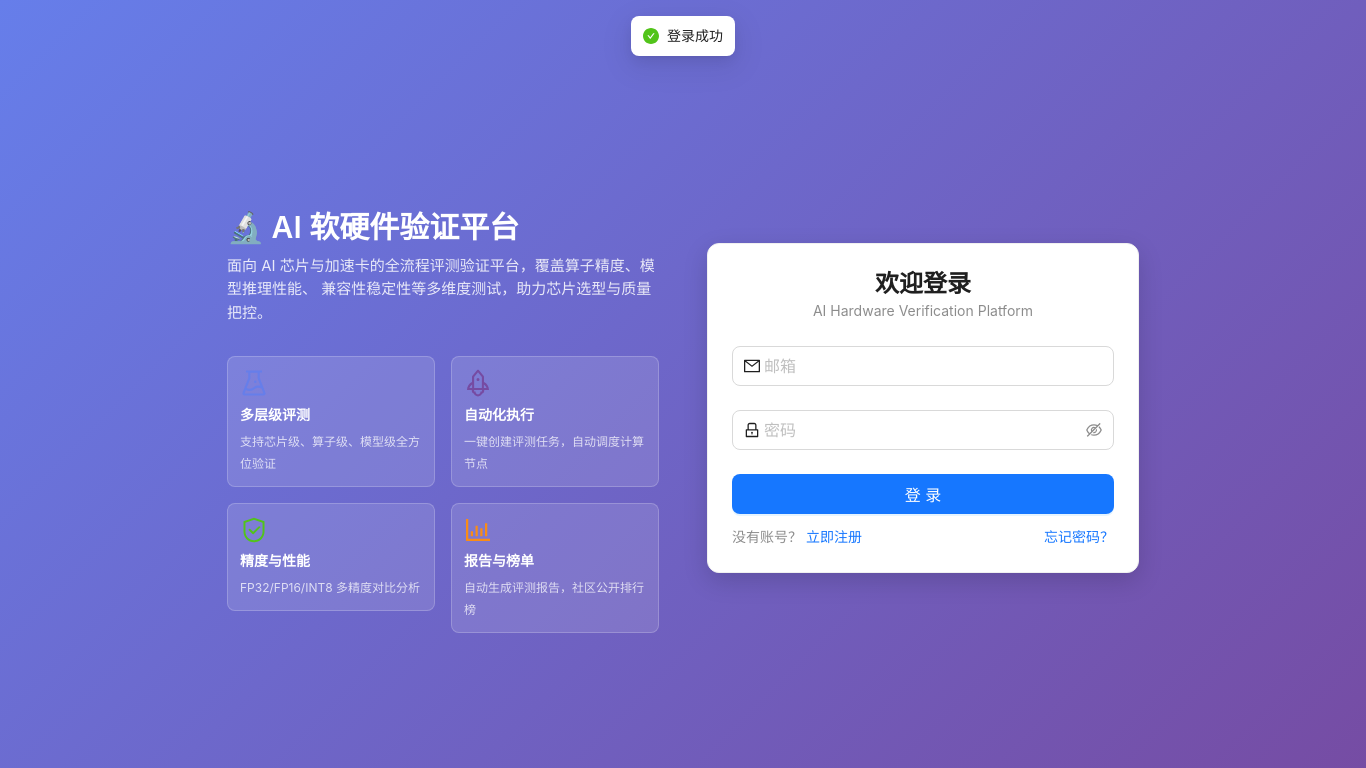
Login Page › displays lock info when account is locked
The image size is (1366, 768).
Type "test@example.com" into the field with placeholder "邮箱".
click(933, 366); type("test@example.com")  # box [764,354,1102,378]
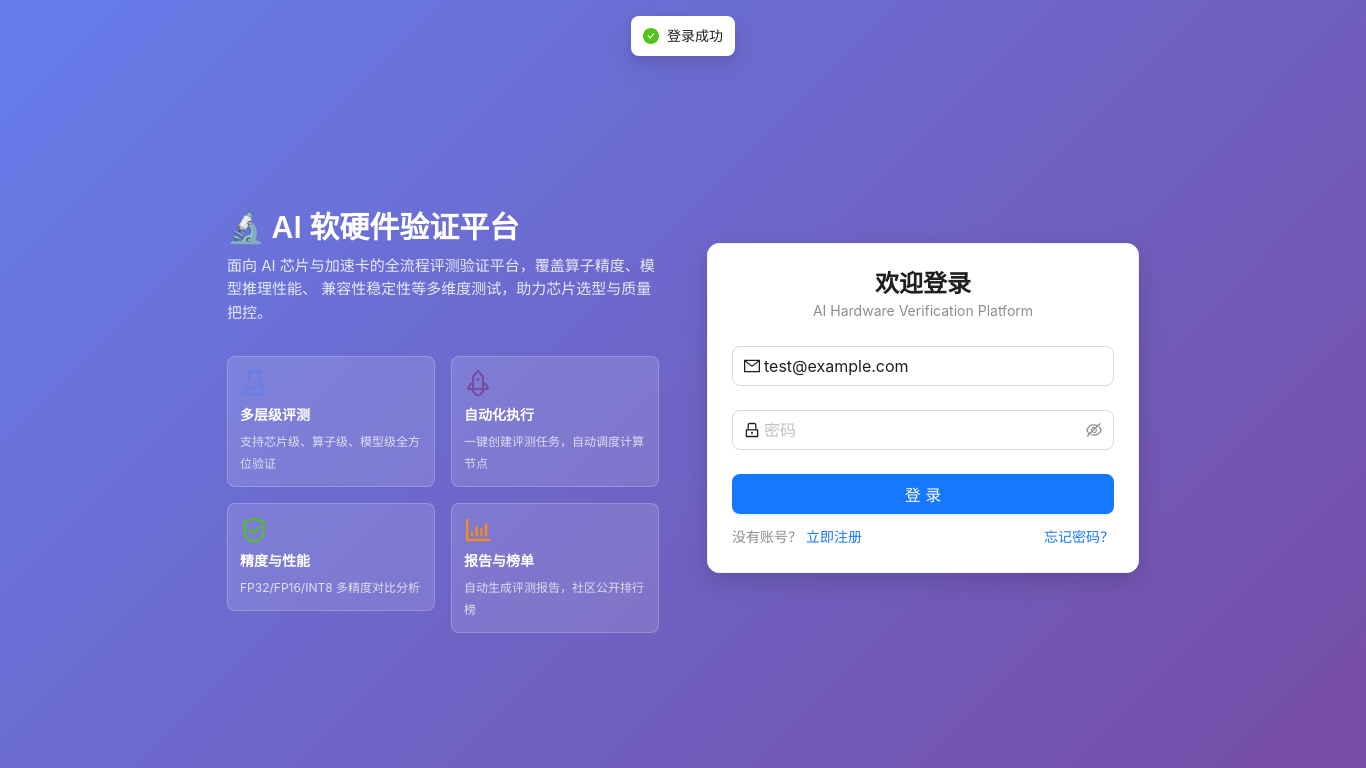
Type "wrong" into the password field with placeholder "密码".
click(923, 430); type("wrong")  # box [764,418,1082,442]
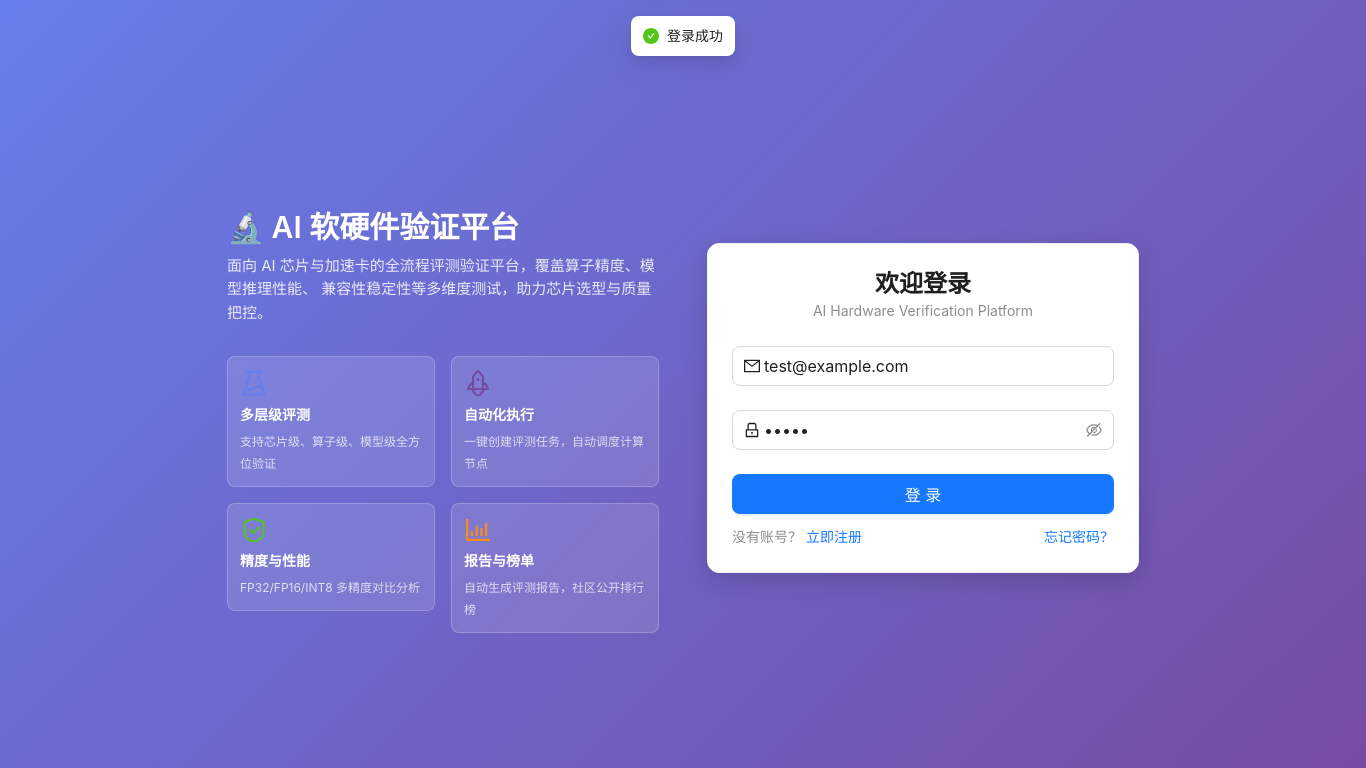
Click the button "登 录".
click(923, 494)  # box [732,474,1114,514]
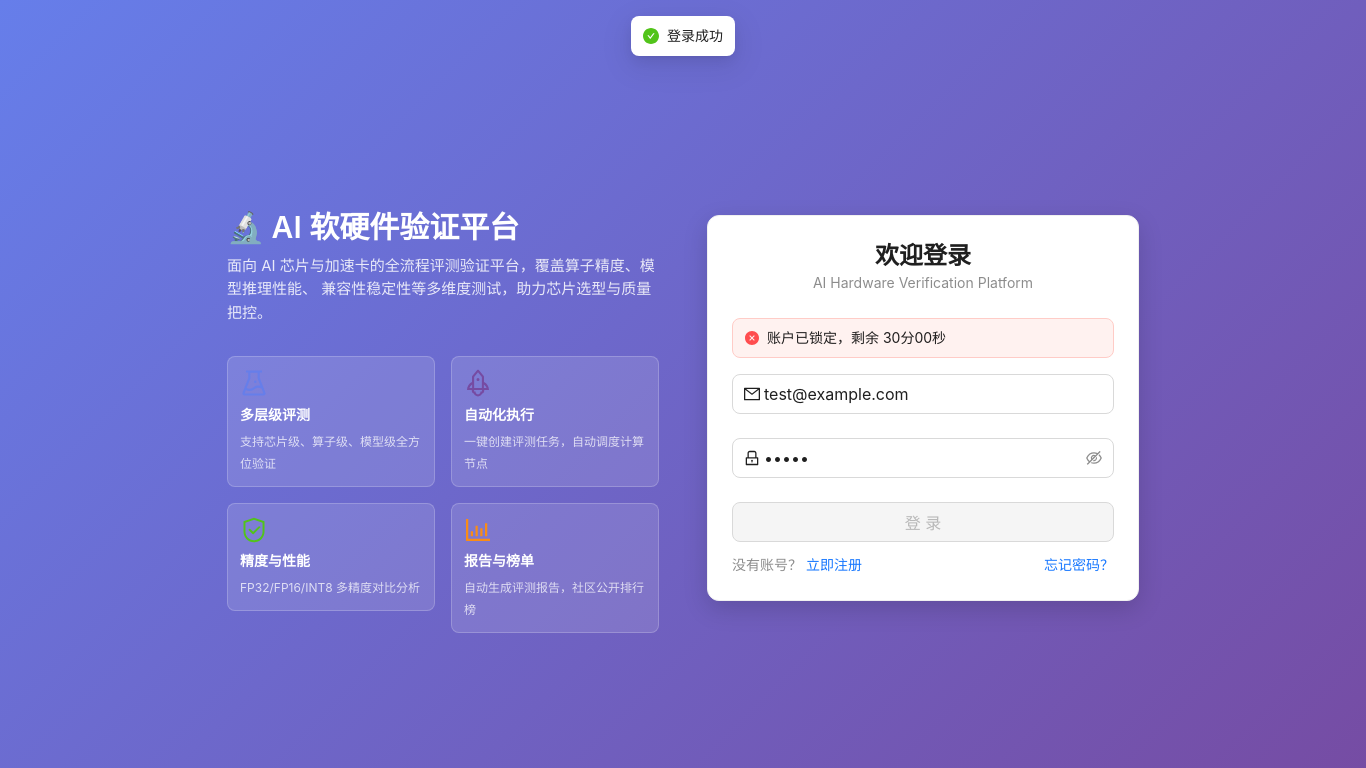
Check: the text "账户已锁定，剩余 30分00秒" is shown, box [767,329,946,346]
